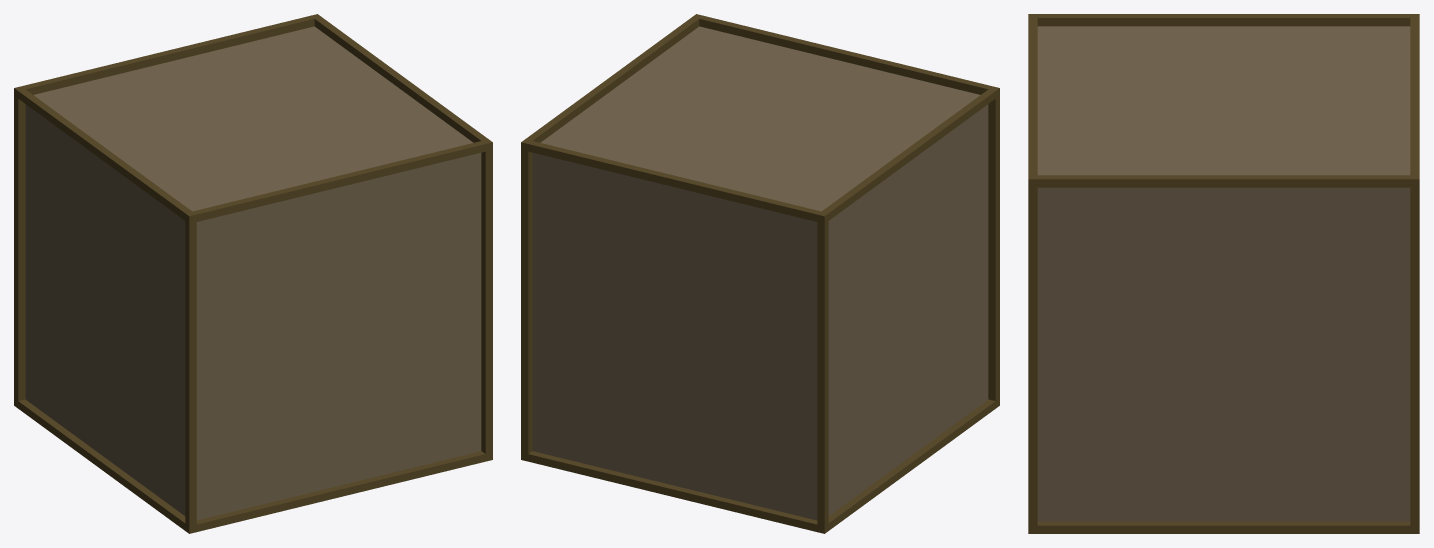
3 views of the same model, side by side, from view 1: azimuth 30°, elevation 25°; view 2: azimuth 150°, elevation 25°; view 3: azimuth 270°, elevation 25° (orthographic). The views are drawn at different scales.
Parts seen in each view (by area): view 1: Cube, Border; view 2: Cube, Border; view 3: Cube, Border.
Boxes of the visible parts, x1,y1,x2,y2 form: Cube: [25, 26, 481, 520]; Border: [14, 14, 492, 533]; Cube: [532, 26, 988, 520]; Border: [521, 14, 999, 533]; Cube: [1037, 26, 1410, 521]; Border: [1028, 14, 1419, 533].
Size of the model in its own units: 2.1 by 2.1 by 2.1.
